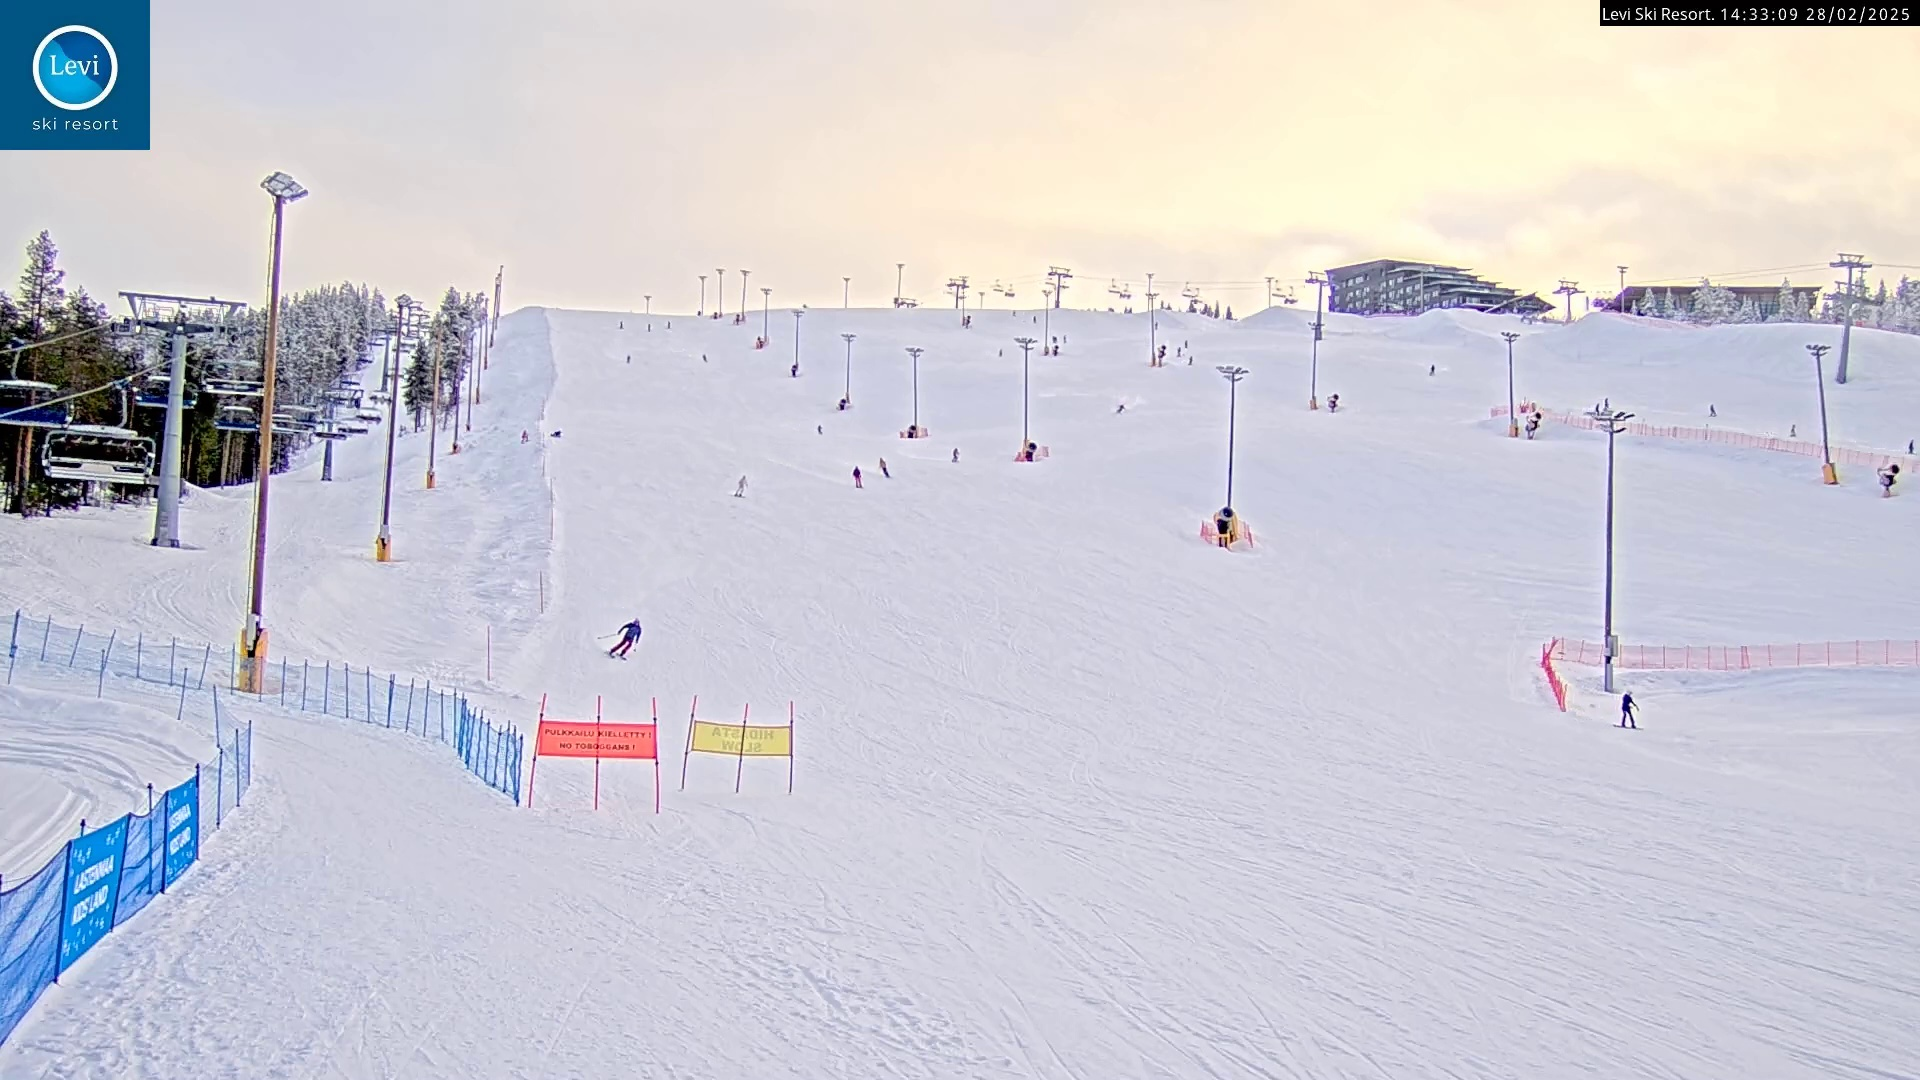snowboarder: (1611, 684, 1639, 732)
